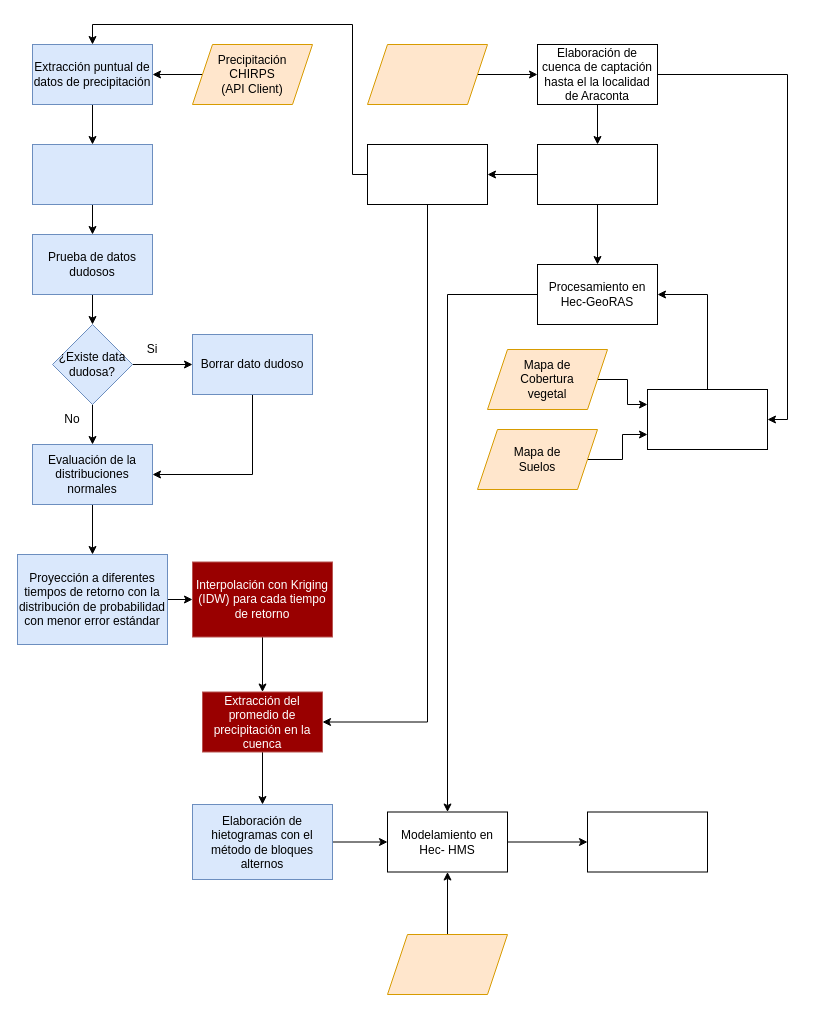
Some shapes in this 813 by 1012 pixel diagram are drawn without their labels. Here are the shapes that lost their labels. From the top down, the centre of each, then its label:
the point at 427,74: Modelo de elevación digital Hi-Res
the point at 92,174: Obtención de la precipitación máxima anual por cada punto
the point at 427,174: Extracción de los centroides de las subcuencas
the point at 597,174: Determinación de Rios y subcuencas
the point at 707,419: Elaboración de la curva número
the point at 647,841: Obtención de caudales
the point at 447,964: Parámetros de Muskigum (iniciales)
